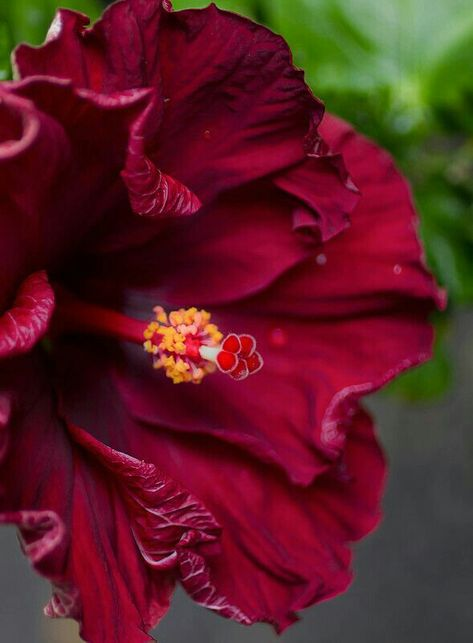Hibiscus: (7, 2, 464, 638)
